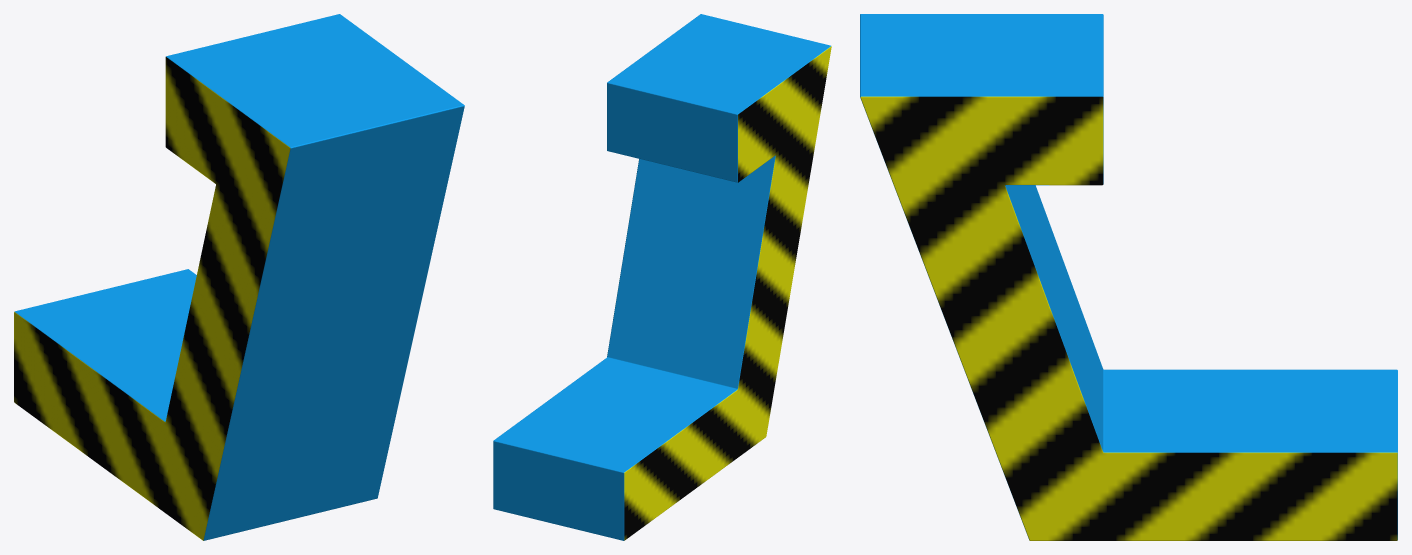
File: radar3.obj
3 views of the same model, side by side, from view 1: azimuth 30°, elevation 25°; view 2: azimuth 150°, elevation 25°; view 3: azimuth 270°, elevation 25° (orthographic). The views are drawn at different scales.
Parts seen in each view (by area): view 1: ColobotMesh_1_ColobotMesh_; view 2: ColobotMesh_1_ColobotMesh_; view 3: ColobotMesh_1_ColobotMesh_.
Boxes of the visible parts, bbox=[...] form: ColobotMesh_1_ColobotMesh_: bbox=[14, 14, 464, 540]; ColobotMesh_1_ColobotMesh_: bbox=[493, 14, 831, 540]; ColobotMesh_1_ColobotMesh_: bbox=[860, 14, 1397, 540].
Bounding box in the file's own units: 2 × 5 × 5.48.
